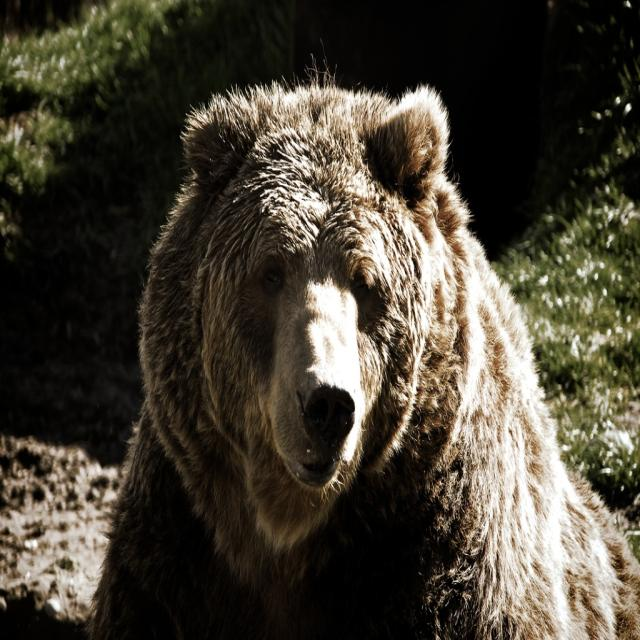Cheetahs: (81, 52, 640, 639)
